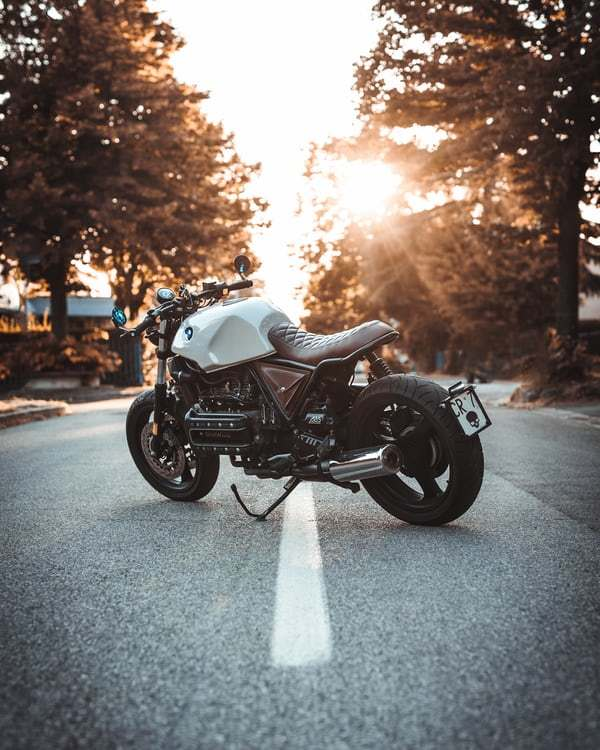9_label: (67, 222, 543, 537)
